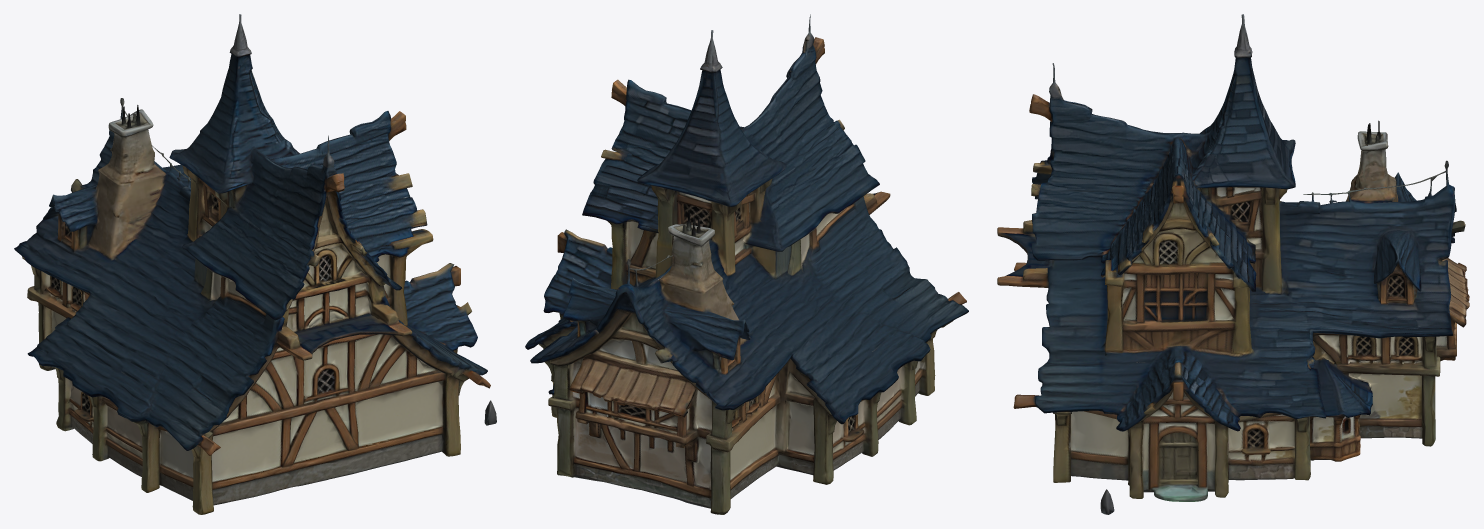
The model's file is house_med.glb.
The picture shows the model from 3 angles, left to right: view 1: azimuth 30°, elevation 25°; view 2: azimuth 150°, elevation 25°; view 3: azimuth 270°, elevation 25°; orthographic projection. The views are drawn at different scales.
Visible parts, largest first — view 1: tripo_node_b77d3fd6-1ccd-4867-a7ab-0e31a918b31e_0; view 2: tripo_node_b77d3fd6-1ccd-4867-a7ab-0e31a918b31e_0; view 3: tripo_node_b77d3fd6-1ccd-4867-a7ab-0e31a918b31e_0.
Part boxes in pixels (x1,y1,x2,y2): tripo_node_b77d3fd6-1ccd-4867-a7ab-0e31a918b31e_0: (14, 14, 496, 514); tripo_node_b77d3fd6-1ccd-4867-a7ab-0e31a918b31e_0: (525, 14, 968, 514); tripo_node_b77d3fd6-1ccd-4867-a7ab-0e31a918b31e_0: (997, 14, 1469, 514).
Bounding box in the file's own units: 0.898 × 0.9515 × 1.
Materials: 1 (1 with a texture image).
